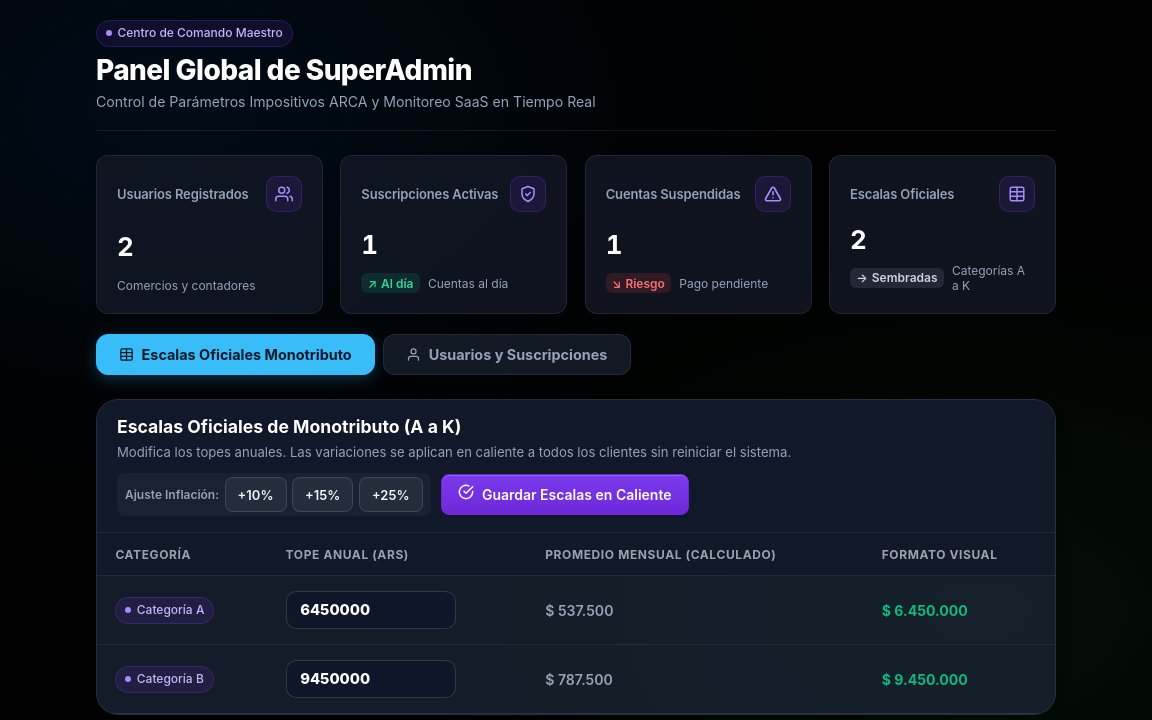
Test case: SuperAdminDashboard Component › renderiza la tabla de escalas de Monotributo y listado de usuarios al cambiar de pestaña
This screenshot has width=1152, height=720.
Expected: the heading "Escalas Oficiales de Monotributo (A a K)" is shown, 117,416 -> 461,437
# Cambiar a la pestaña de usuarios
Click the button "Usuarios y Suscripciones" at (507, 355), box 383,334 -> 631,375
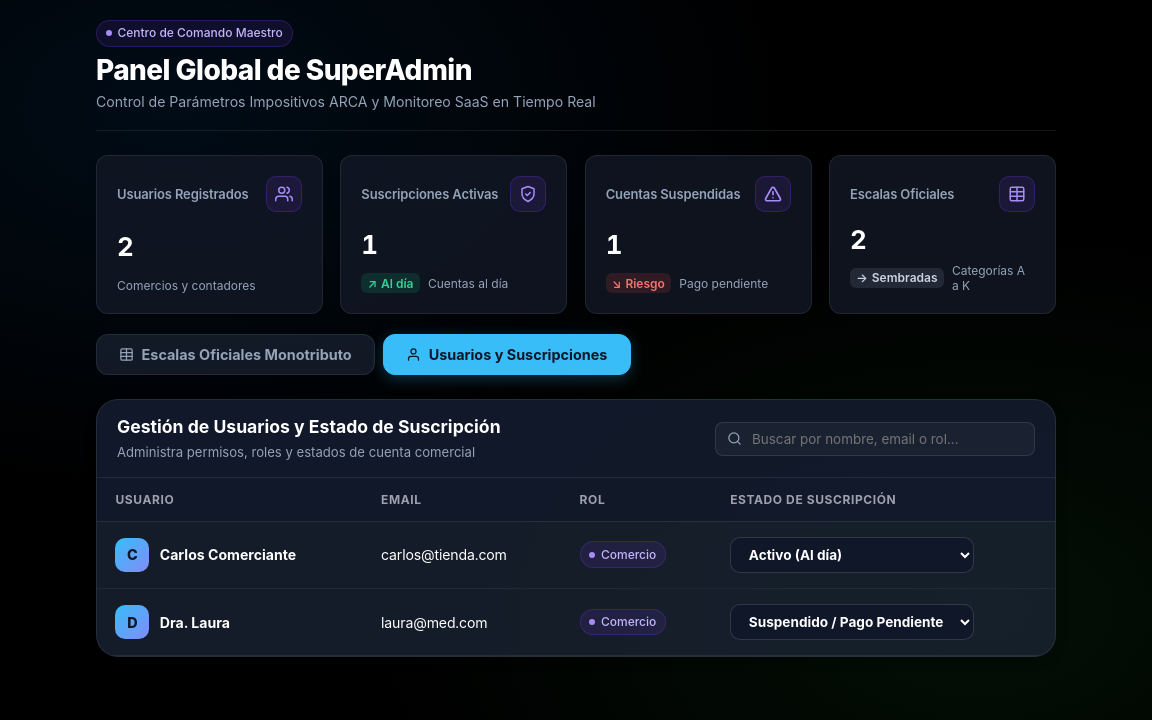
Now the text "Carlos Comerciante" is shown, box 160,546 -> 296,563
Now the text "laura@med.com" is shown, box 381,614 -> 487,631
